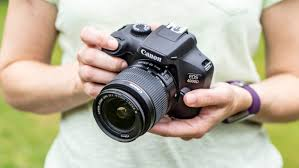camera: (92, 23, 212, 138)
